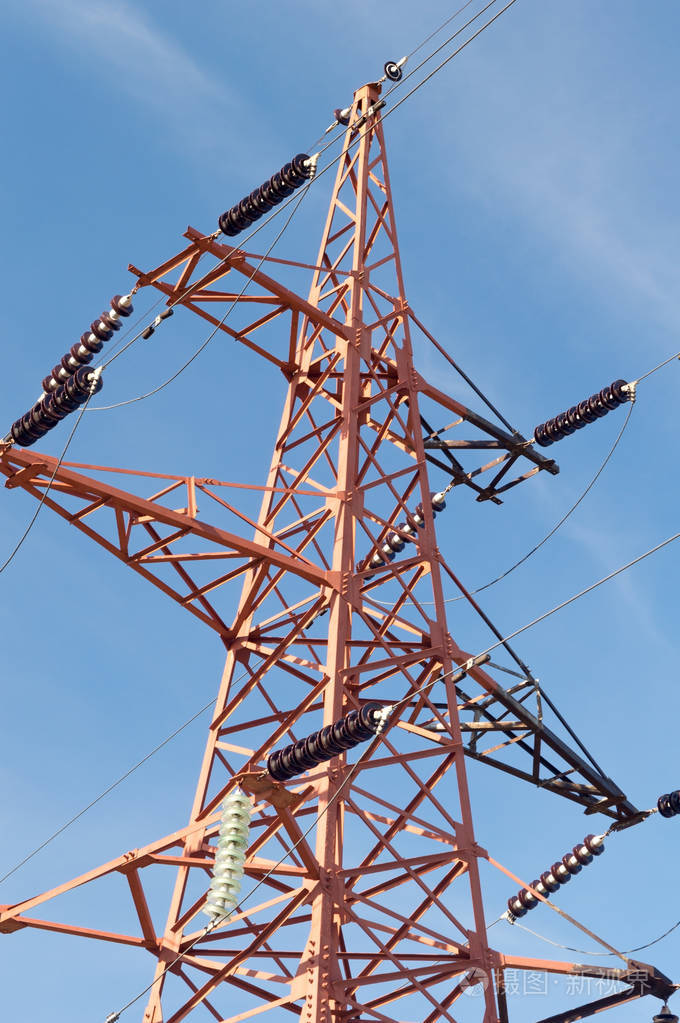insulator: (505, 829, 608, 918), (265, 699, 384, 776), (40, 295, 132, 389), (12, 366, 107, 451), (218, 154, 313, 236), (530, 378, 635, 448), (354, 495, 445, 573), (201, 789, 248, 920)
